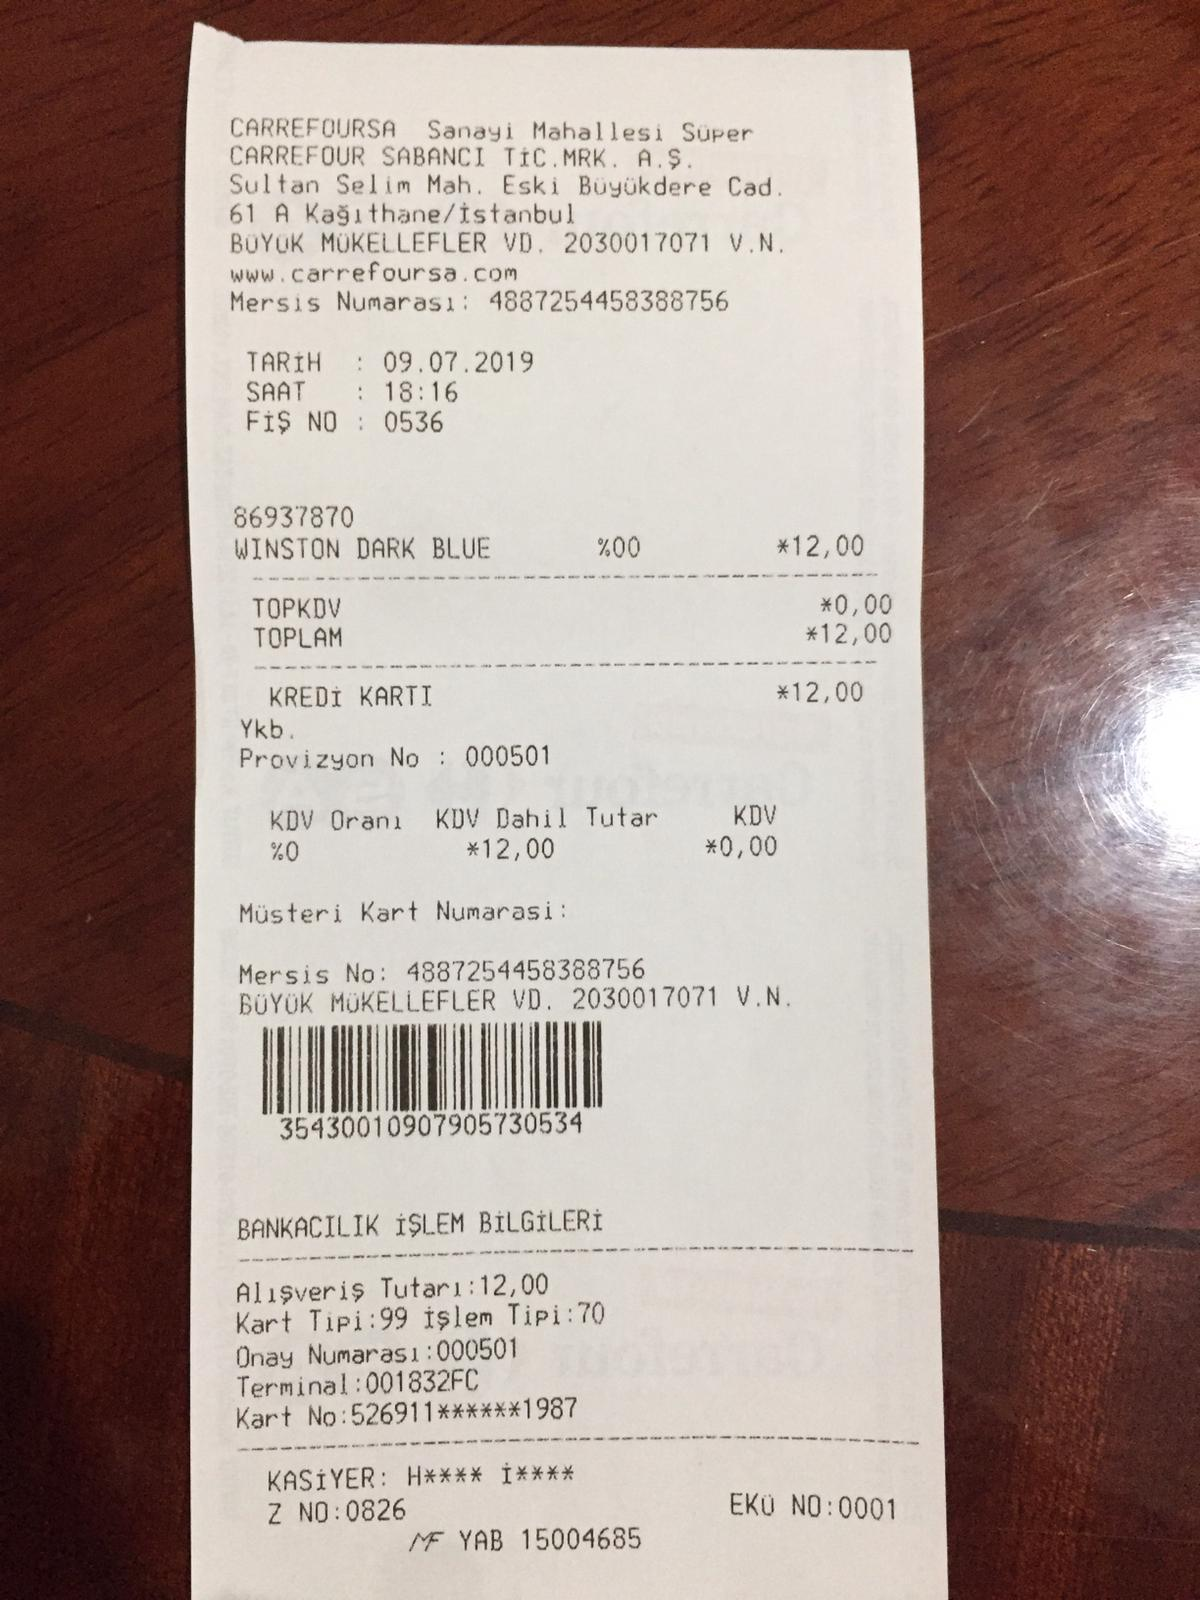total: (253, 618, 901, 655)
